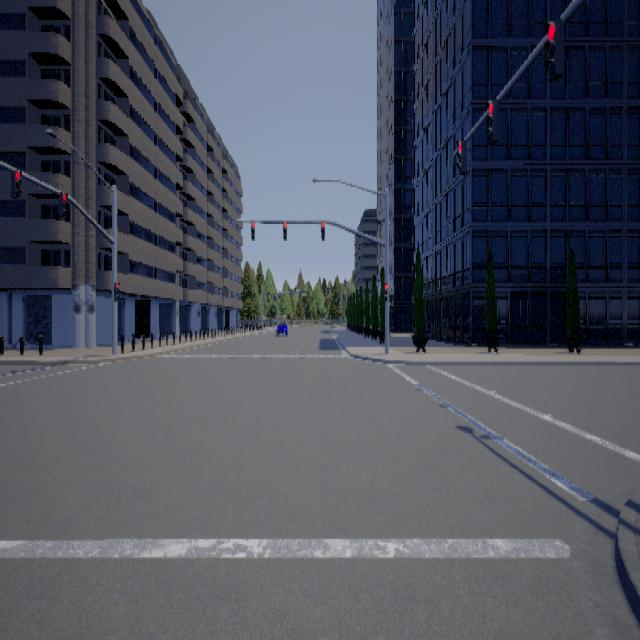red_light: (543, 17, 563, 81), (485, 98, 498, 143), (455, 138, 466, 174), (10, 168, 21, 197), (58, 190, 67, 216), (113, 281, 119, 300), (320, 219, 324, 239), (282, 219, 286, 239), (250, 219, 254, 239), (383, 281, 387, 300)
vehicle: (273, 318, 287, 338)
